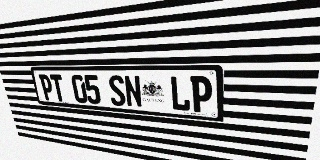0: (70, 75, 88, 103)
5: (84, 75, 102, 105)
L: (169, 76, 190, 112)
N: (123, 75, 143, 108)
P: (190, 76, 212, 113), (38, 74, 55, 101)
S: (107, 75, 126, 107)
T: (49, 74, 66, 102)
